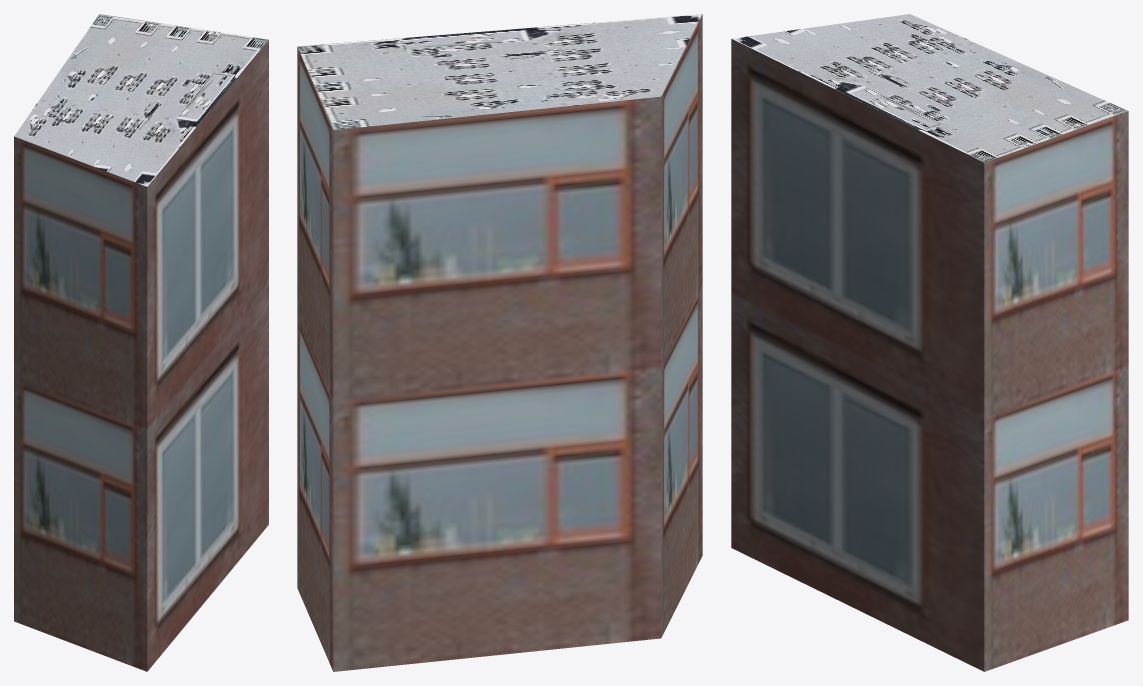
The model's file is ResTex__1722.fbx.
3 views of the same model, side by side, from view 1: azimuth 30°, elevation 25°; view 2: azimuth 150°, elevation 25°; view 3: azimuth 270°, elevation 25° (orthographic). The views are drawn at different scales.
Visible parts, largest first — view 1: CityEngineMaterial_19_m, CityEngineMaterial_15_m; view 2: CityEngineMaterial_19_m, CityEngineMaterial_15_m; view 3: CityEngineMaterial_19_m, CityEngineMaterial_15_m.
Part boxes in pixels (box(x1,y1,x2,y2)): CityEngineMaterial_19_m: box(14, 40, 268, 671); CityEngineMaterial_15_m: box(14, 14, 268, 186); CityEngineMaterial_19_m: box(297, 14, 702, 671); CityEngineMaterial_15_m: box(298, 14, 702, 130); CityEngineMaterial_19_m: box(731, 39, 1128, 671); CityEngineMaterial_15_m: box(732, 14, 1127, 162).
Size of the model in its own units: 3.76 by 6 by 4.24.
2 materials, 2 textured.
